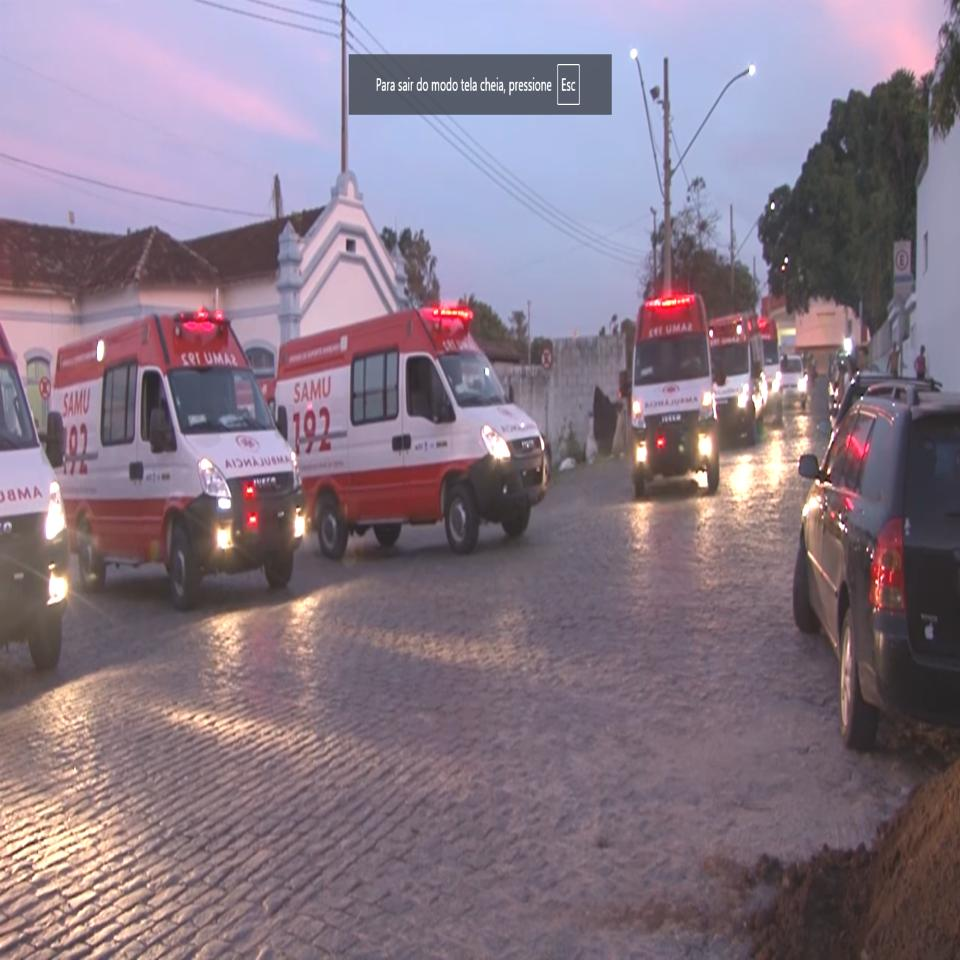ambulancia: (51, 310, 308, 614), (271, 301, 552, 552), (617, 291, 724, 499), (707, 313, 768, 443)
